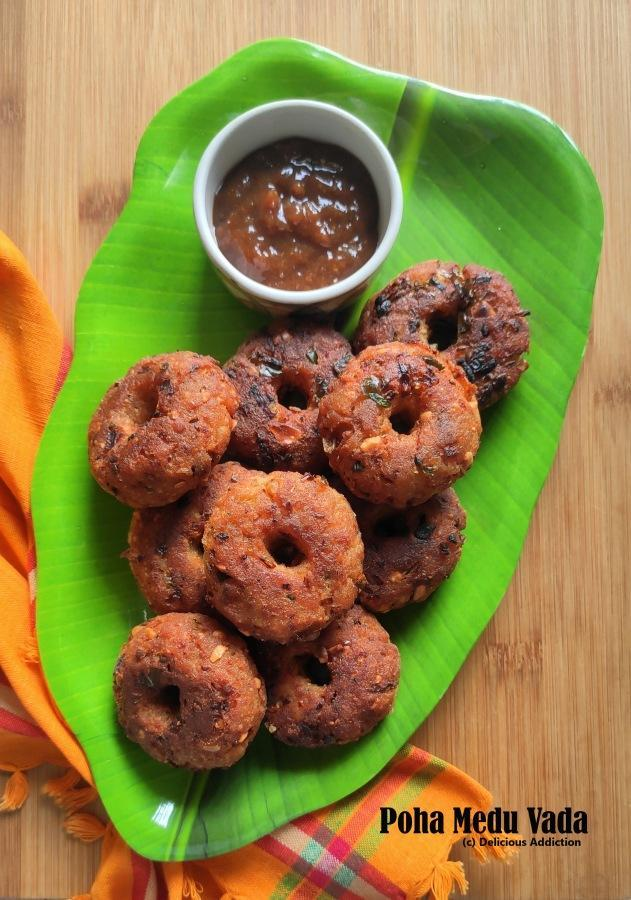mvada: (144, 401, 411, 726)
